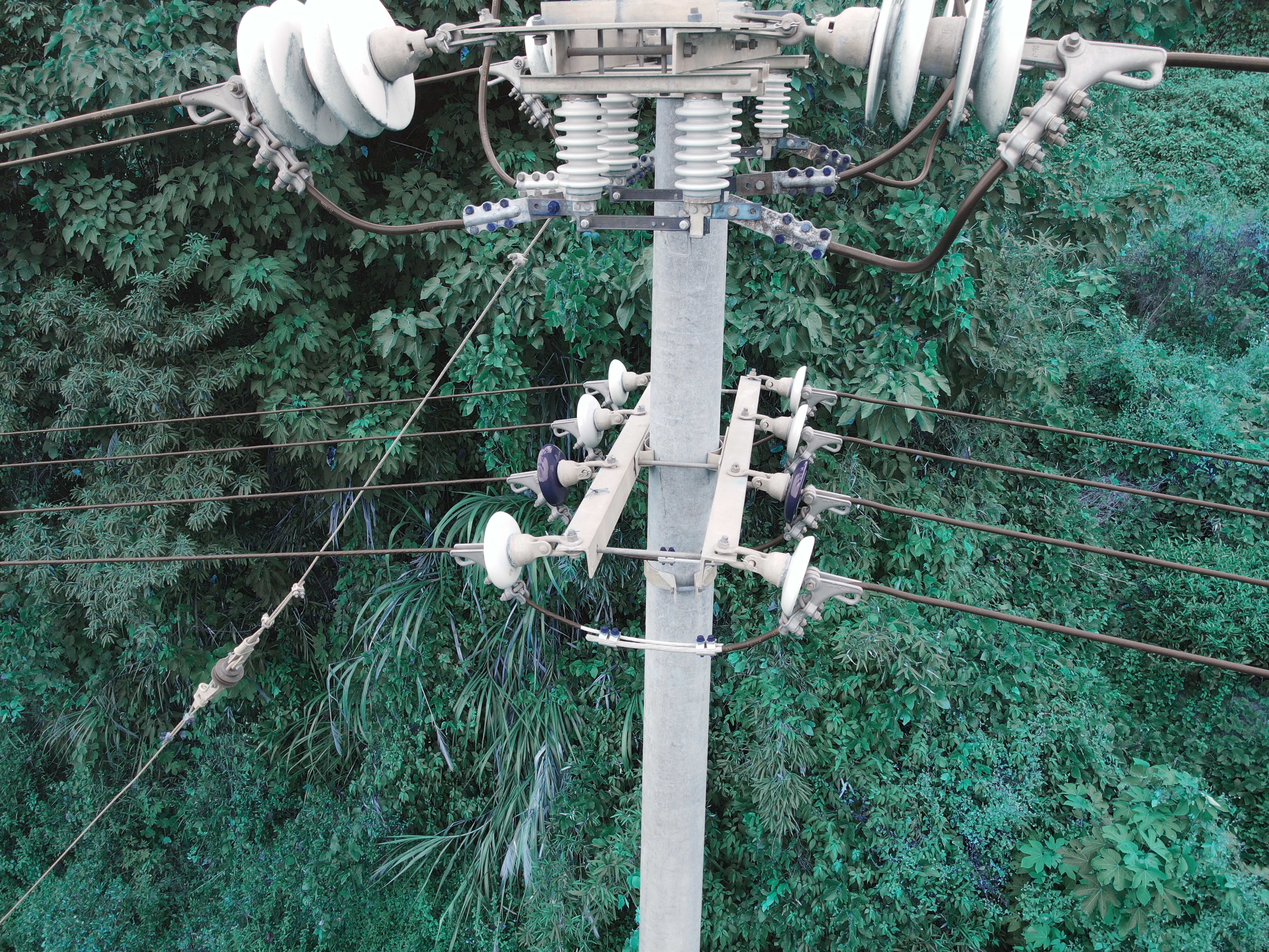severe_soiling_no_discharge_whole: (816, 4, 1044, 146), (233, 5, 434, 153)
